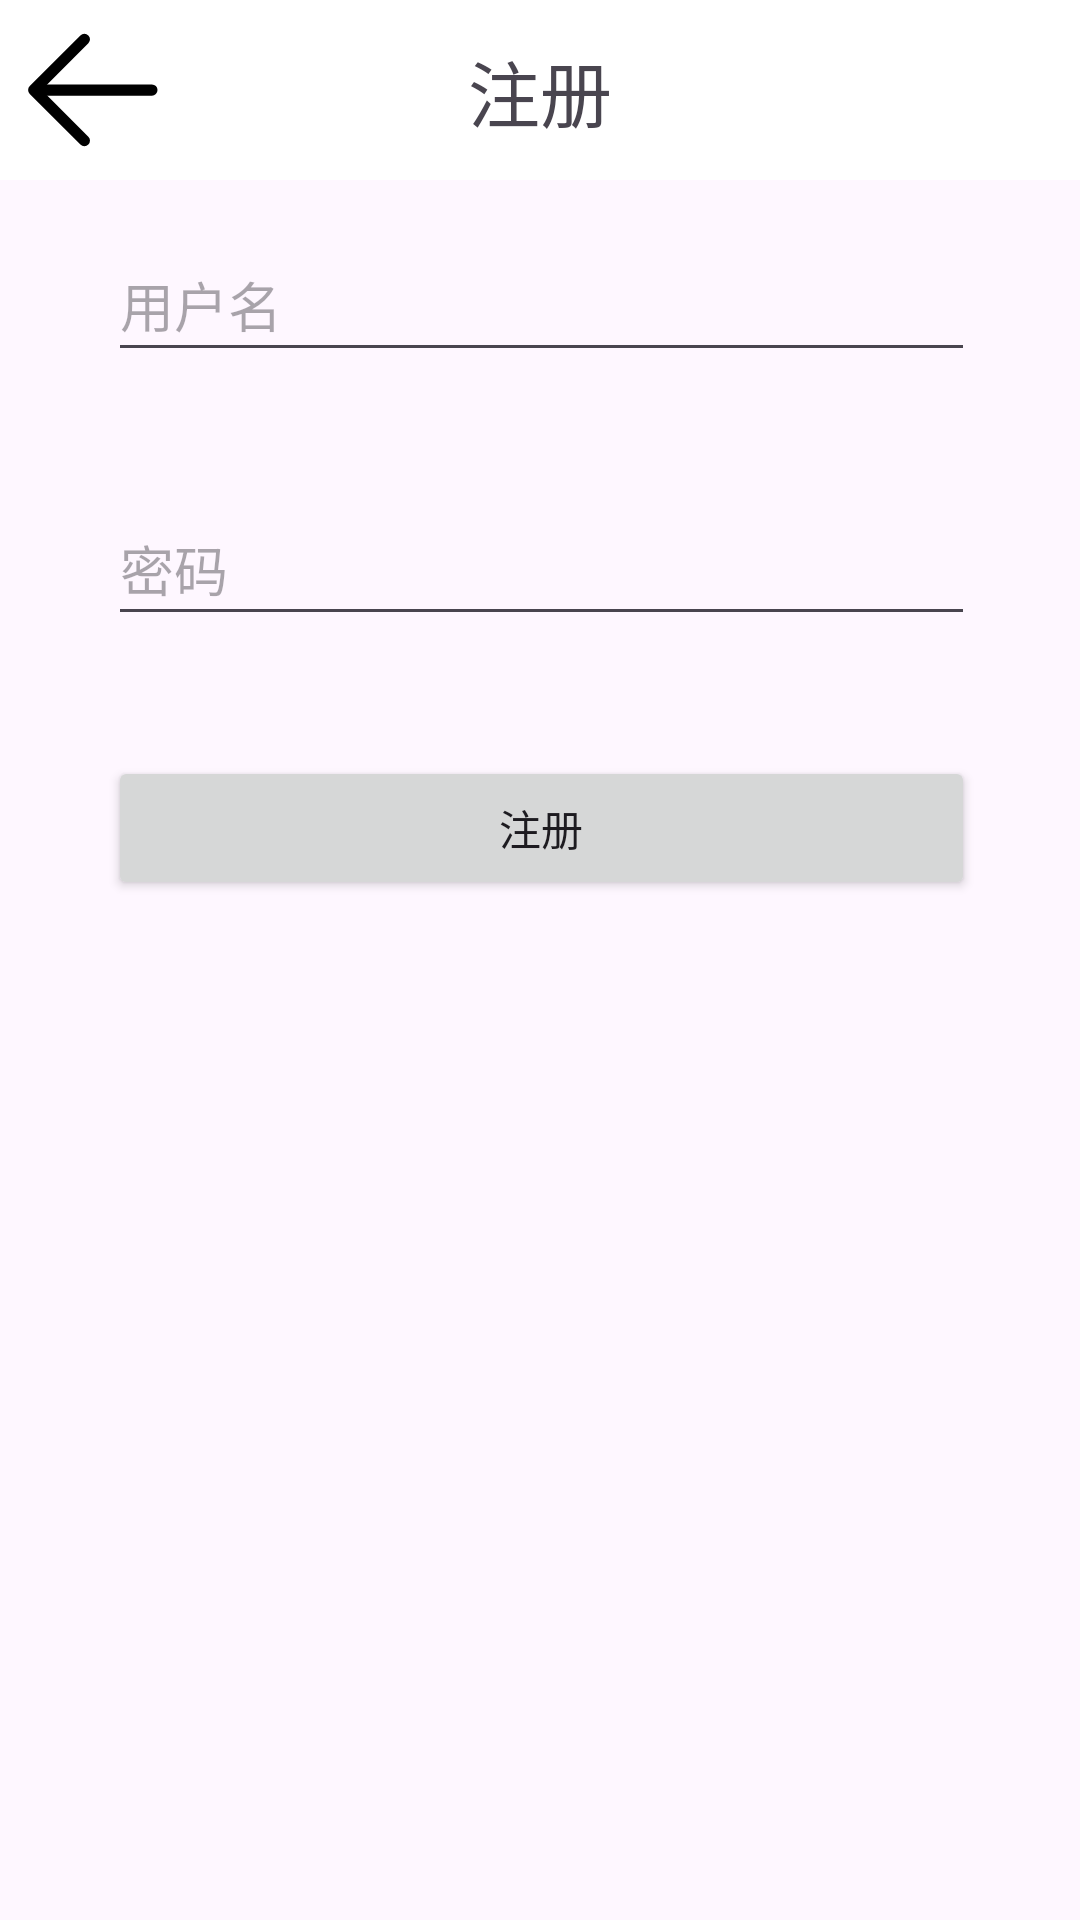

Screen size 1080w x 1920h. Icon name, then its box in pixels as box(x1, y1, x2, y2):
back: box(28, 33, 158, 147)
